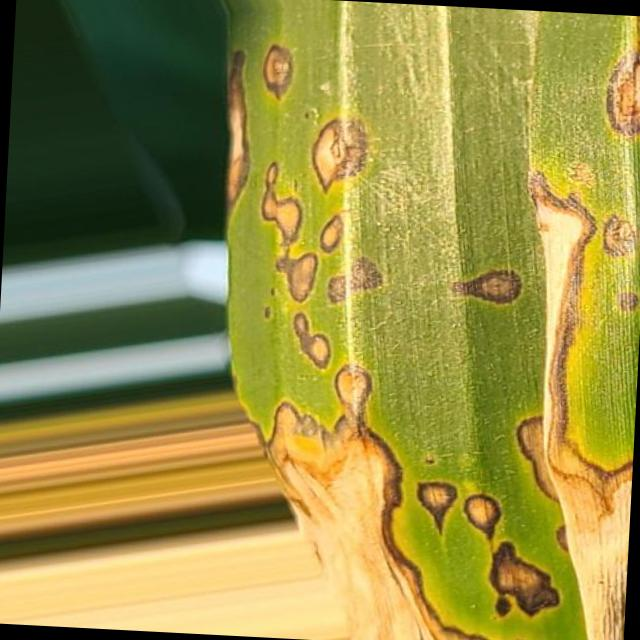Banana_Black_Sigatoka: (200, 45, 413, 547), (432, 178, 640, 640)
